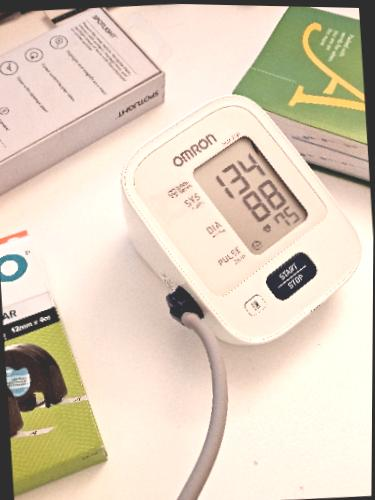bpm: (189, 128, 313, 260)
